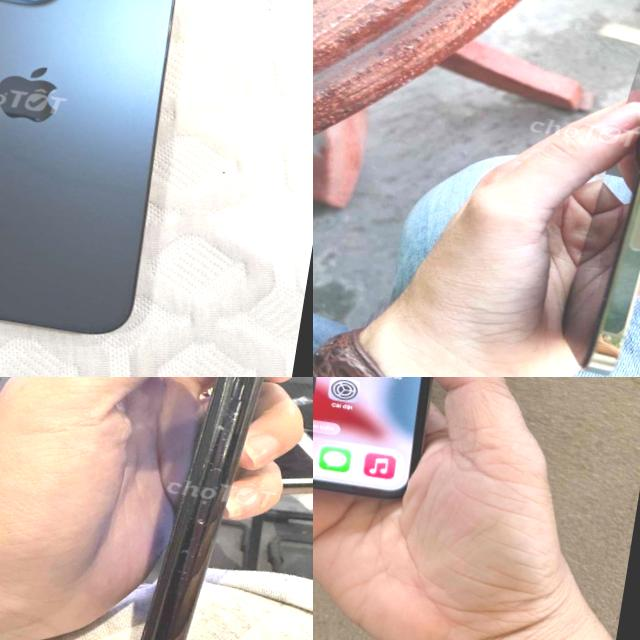scratch: (154, 518, 240, 620), (203, 377, 260, 498)
